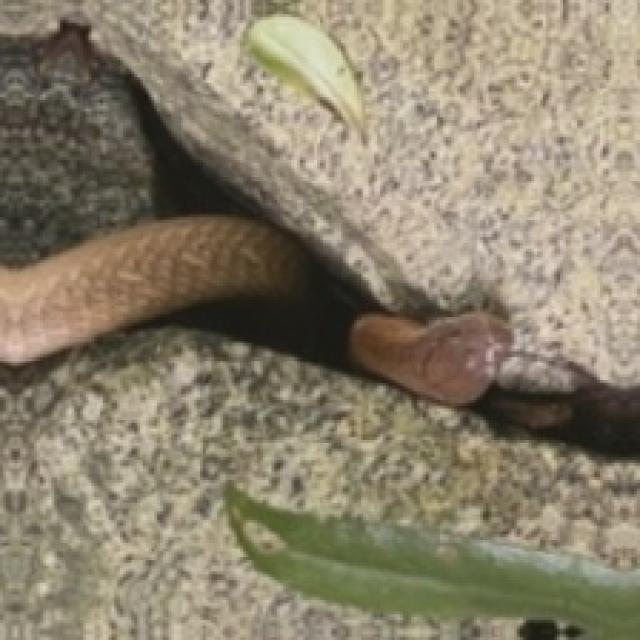king cobra: (0, 0, 637, 451)
